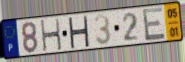2: (122, 11, 140, 43)
3: (94, 12, 112, 48)
8: (20, 21, 40, 54)
E: (141, 6, 167, 43)
H: (39, 17, 63, 53), (67, 16, 90, 49)
